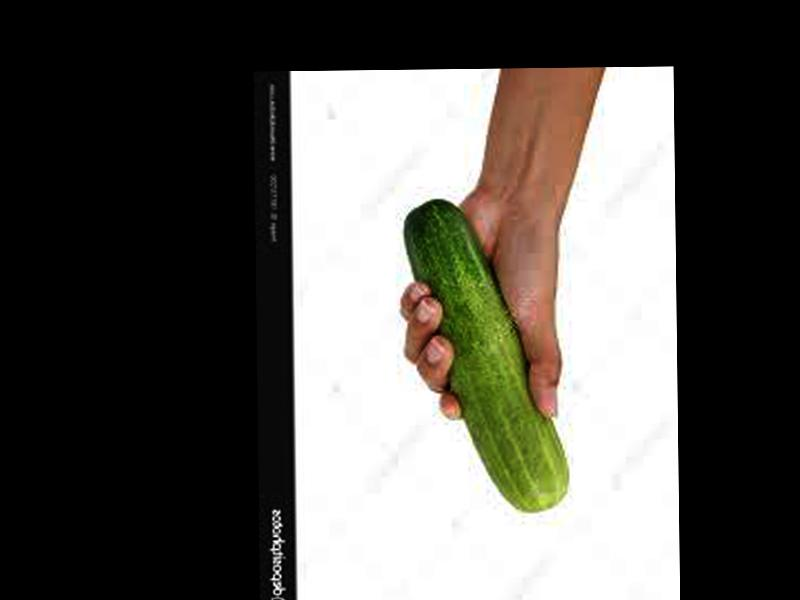Cucumber: (405, 197, 571, 512)
